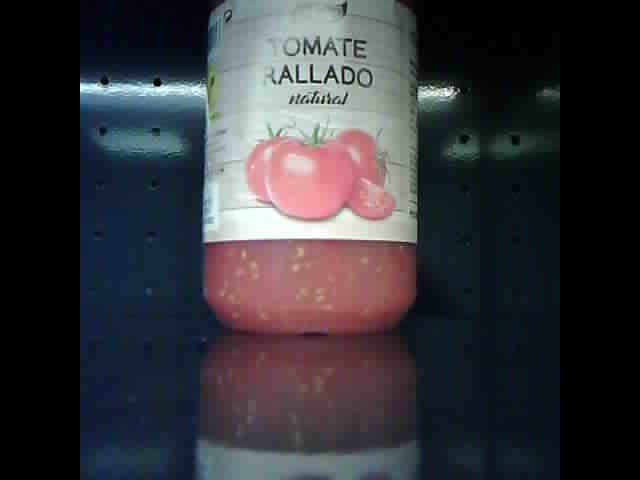tomate: (201, 3, 420, 337)
